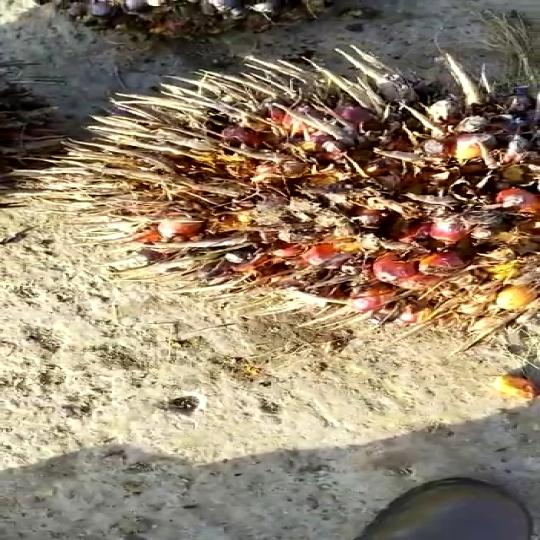terlalu masak: (62, 48, 540, 366)
